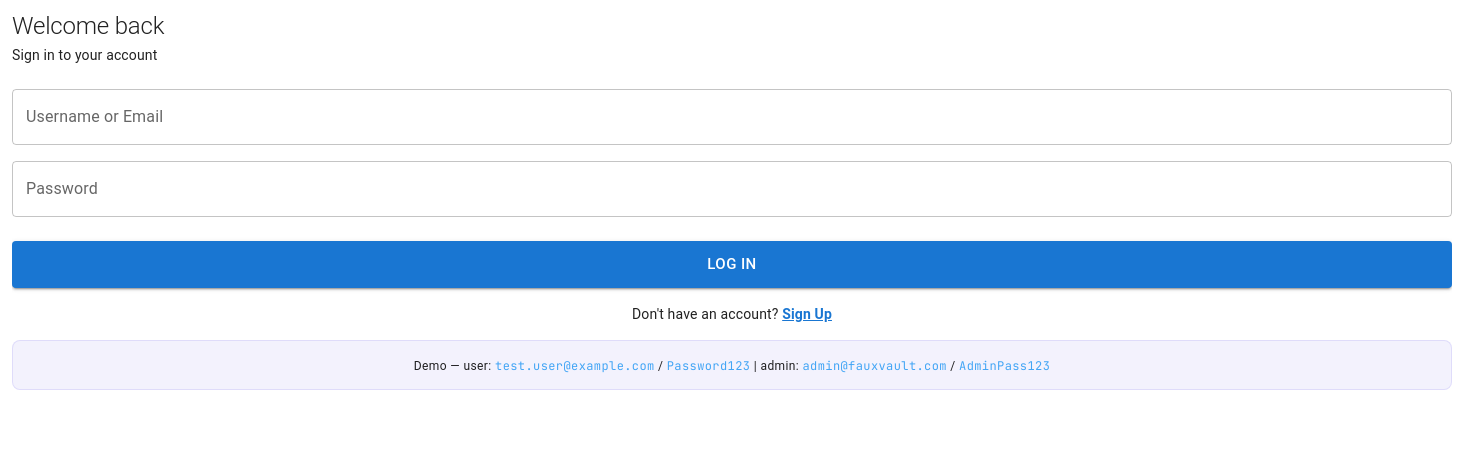
Test case: LoginPage server error handling › shows an Alert with the server error message on login failure
The image size is (1464, 471).
Type "test@example.com" into the field labelled "Username or Email". click: x=732, y=117
box: x1=12 y1=89 x2=1452 y2=145
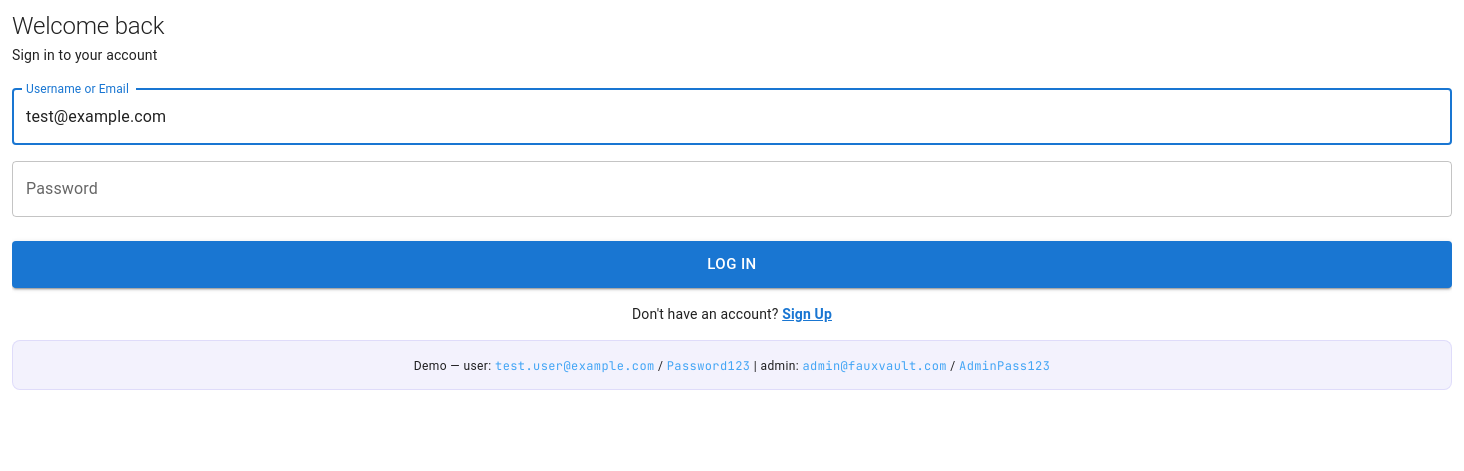
Type "wrongpassword" into the password field labelled "Password". click: x=732, y=189
box: x1=12 y1=161 x2=1452 y2=217
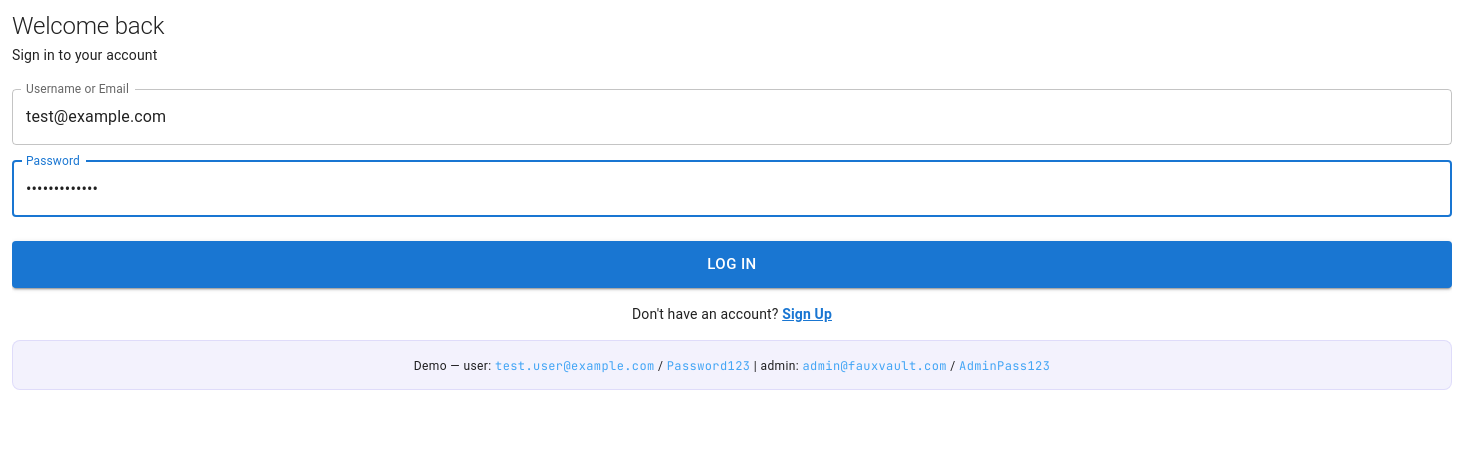
Click the button "Log In". click: x=732, y=264
box: x1=12 y1=241 x2=1452 y2=288
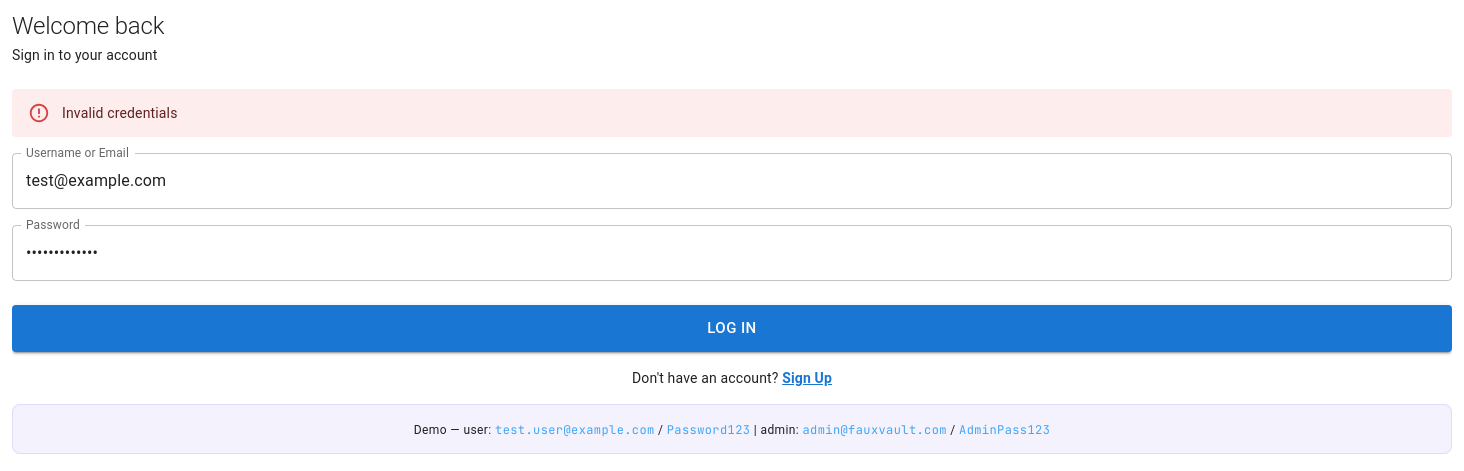
expect the text "Invalid credentials" is shown: met, box x1=62 y1=105 x2=178 y2=121
